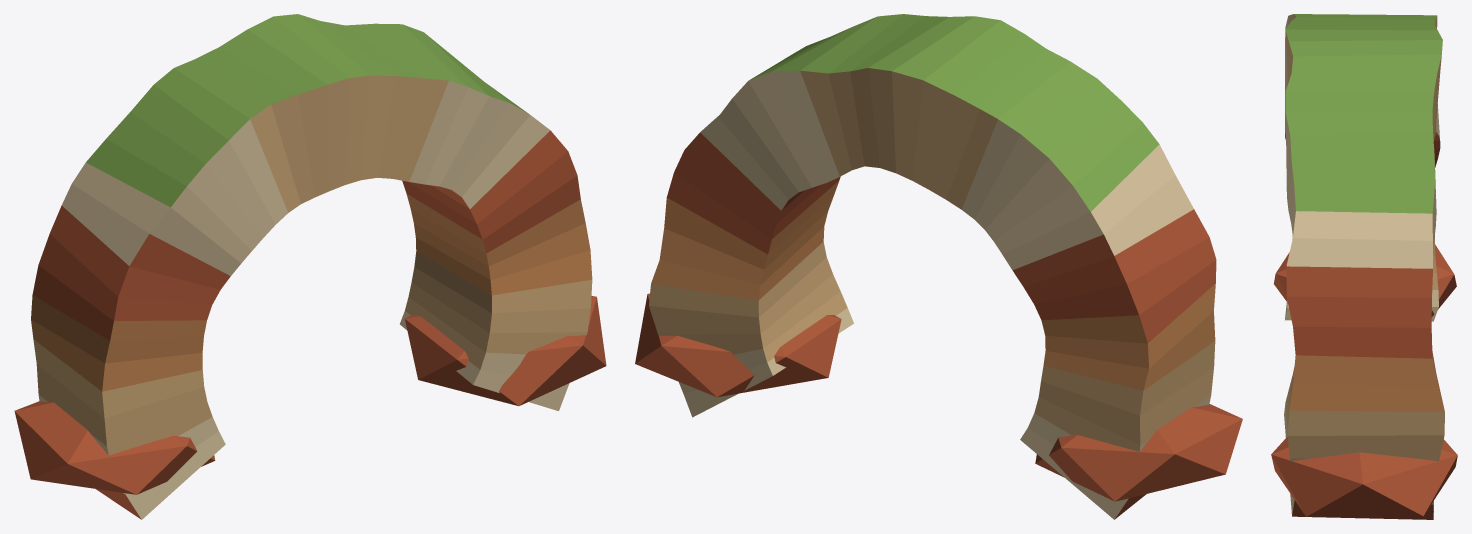
The model's file is rock_ring.glb.
The picture shows the model from 3 angles, left to right: view 1: azimuth 30°, elevation 25°; view 2: azimuth 150°, elevation 25°; view 3: azimuth 270°, elevation 25°; orthographic projection. The views are drawn at different scales.
Parts seen in each view (by area): view 1: rock_ring; view 2: rock_ring; view 3: rock_ring.
Boxes of the visible parts, x1,y1,x2,y2 form: rock_ring: (14, 14, 606, 519); rock_ring: (635, 14, 1242, 519); rock_ring: (1271, 14, 1457, 519).
Bounding box in the file's own units: 39.61 × 26.29 × 11.58.
